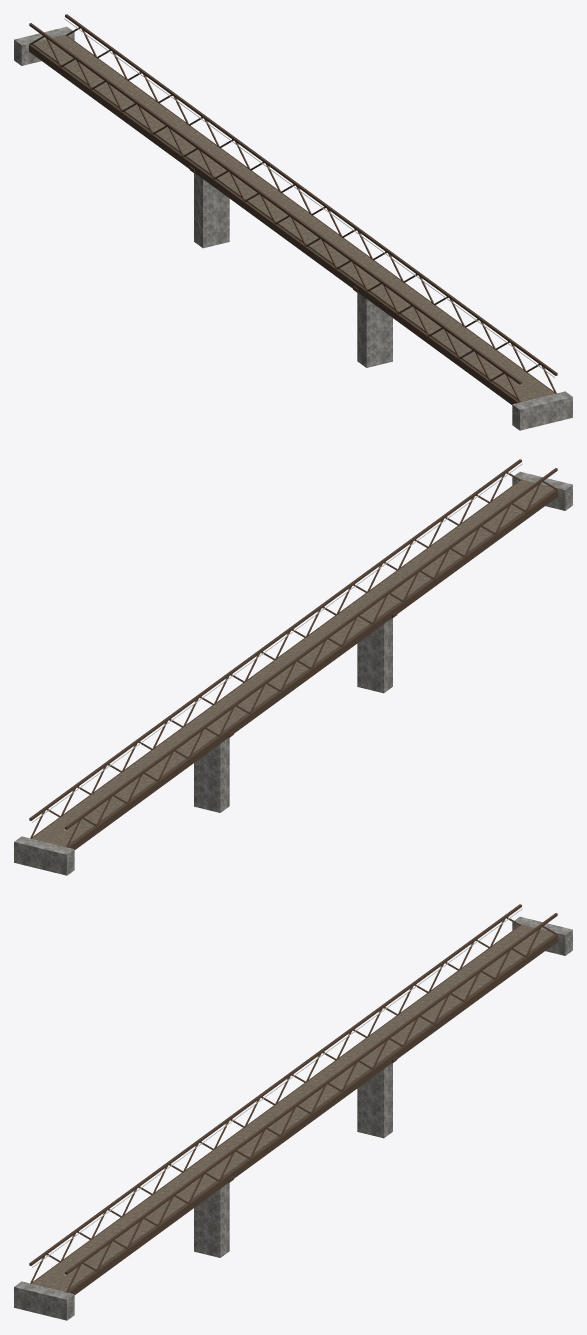
File: town_footbridge 2.gltf
3 views of the same model, one above another, from view 1: azimuth 30°, elevation 25°; view 2: azimuth 150°, elevation 25°; view 3: azimuth 330°, elevation 25° (orthographic).
Parts seen in each view (by area): view 1: TownFootbridge_Deck, TownFootbridge_Truss, TownFootbridge_Supports, TownFootbridge_Abutments, TownFootbridge_Handrail; view 2: TownFootbridge_Deck, TownFootbridge_Truss, TownFootbridge_Supports, TownFootbridge_Abutments, TownFootbridge_Handrail; view 3: TownFootbridge_Deck, TownFootbridge_Truss, TownFootbridge_Supports, TownFootbridge_Abutments, TownFootbridge_Handrail.
Boxes of the visible parts, box(x1,y1,x2,y2) form: TownFootbridge_Deck: box(32, 34, 554, 401); TownFootbridge_Truss: box(29, 14, 557, 404); TownFootbridge_Supports: box(189, 166, 392, 367); TownFootbridge_Abutments: box(14, 26, 572, 430); TownFootbridge_Handrail: box(64, 18, 554, 385); TownFootbridge_Deck: box(32, 479, 554, 846); TownFootbridge_Truss: box(29, 459, 557, 849); TownFootbridge_Supports: box(194, 611, 397, 812); TownFootbridge_Abutments: box(14, 471, 572, 875); TownFootbridge_Handrail: box(32, 463, 522, 830); TownFootbridge_Deck: box(32, 924, 554, 1291); TownFootbridge_Truss: box(29, 904, 557, 1294); TownFootbridge_Supports: box(194, 1056, 397, 1257); TownFootbridge_Abutments: box(14, 916, 572, 1320); TownFootbridge_Handrail: box(32, 908, 522, 1275).
Size of what is drawn, in the model's own units: 4 by 7.43 by 66.
Materials: 2 (2 with a texture image).
